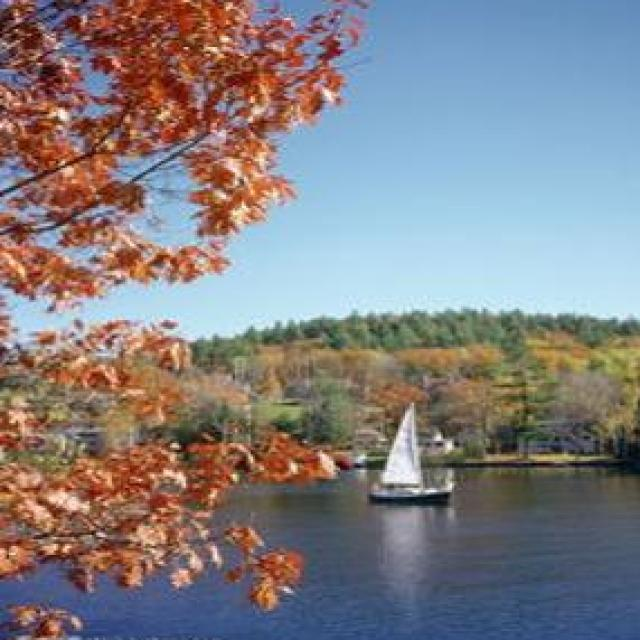sailboat: (359, 396, 459, 506)
